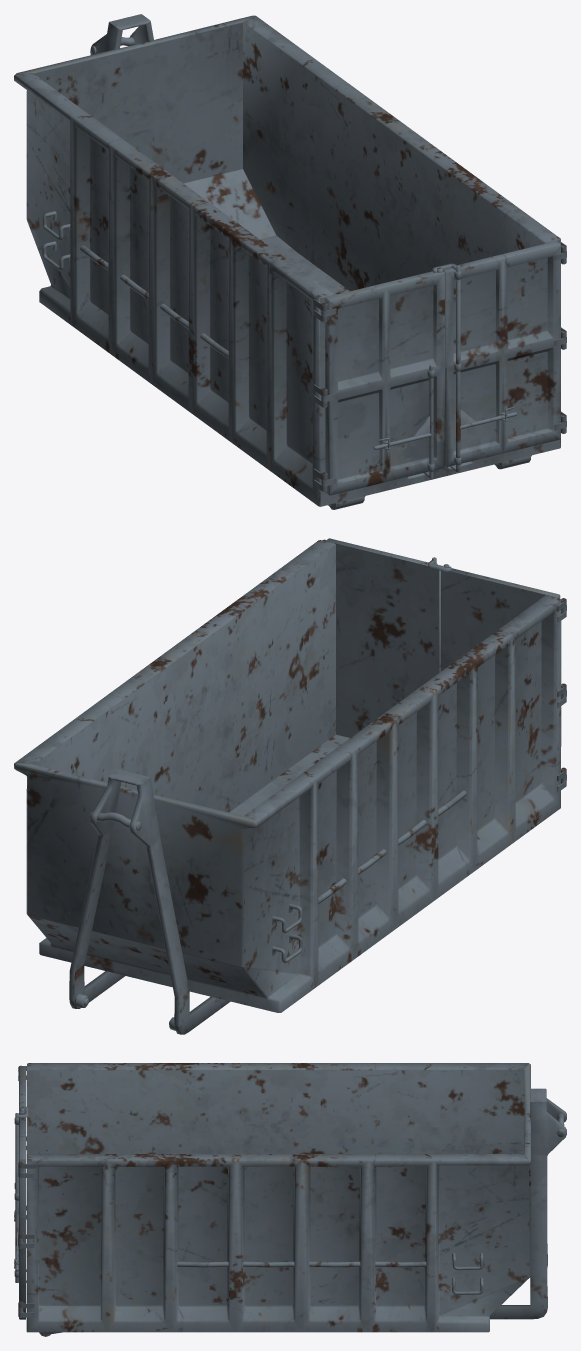
File: Eng_Container01.fbx
3 views of the same model, one above another, from view 1: azimuth 30°, elevation 25°; view 2: azimuth 150°, elevation 25°; view 3: azimuth 270°, elevation 25° (orthographic). The views are drawn at different scales.
Visible parts, largest first — view 1: SM_Eng_Container01.mo; view 2: SM_Eng_Container01.mo; view 3: SM_Eng_Container01.mo.
Part boxes in pixels (x1=…): SM_Eng_Container01.mo: x1=14, y1=14, x2=566, y2=509; SM_Eng_Container01.mo: x1=14, y1=538, x2=566, y2=1034; SM_Eng_Container01.mo: x1=14, y1=1063, x2=566, y2=1336.
Bounding box in the file's own units: 201 × 192 × 476.
